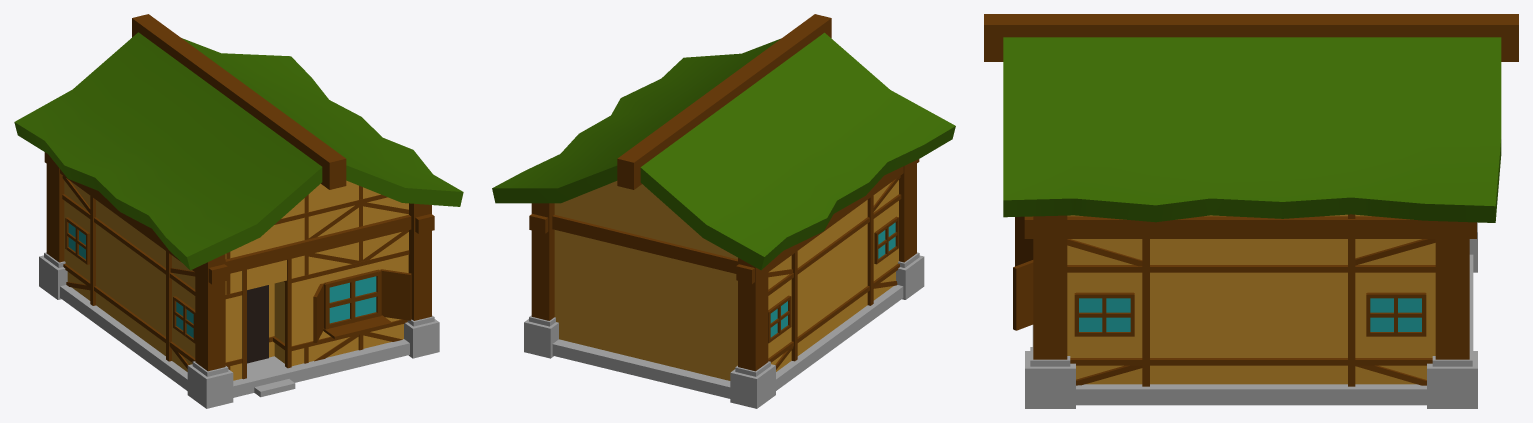
File: Village_Modular_Building_1.fbx
3 views of the same model, side by side, from view 1: azimuth 30°, elevation 25°; view 2: azimuth 150°, elevation 25°; view 3: azimuth 270°, elevation 25° (orthographic). The views are drawn at different scales.
Parts seen in each view (by area): view 1: polySurface148; view 2: polySurface148; view 3: polySurface148.
Part boxes in pixels (left/top/right/bottom): polySurface148: left=14, top=14, right=463, bottom=408; polySurface148: left=492, top=14, right=955, bottom=408; polySurface148: left=984, top=14, right=1518, bottom=408.
Size of the model in its own units: 12.56 by 9.76 by 15.14.
